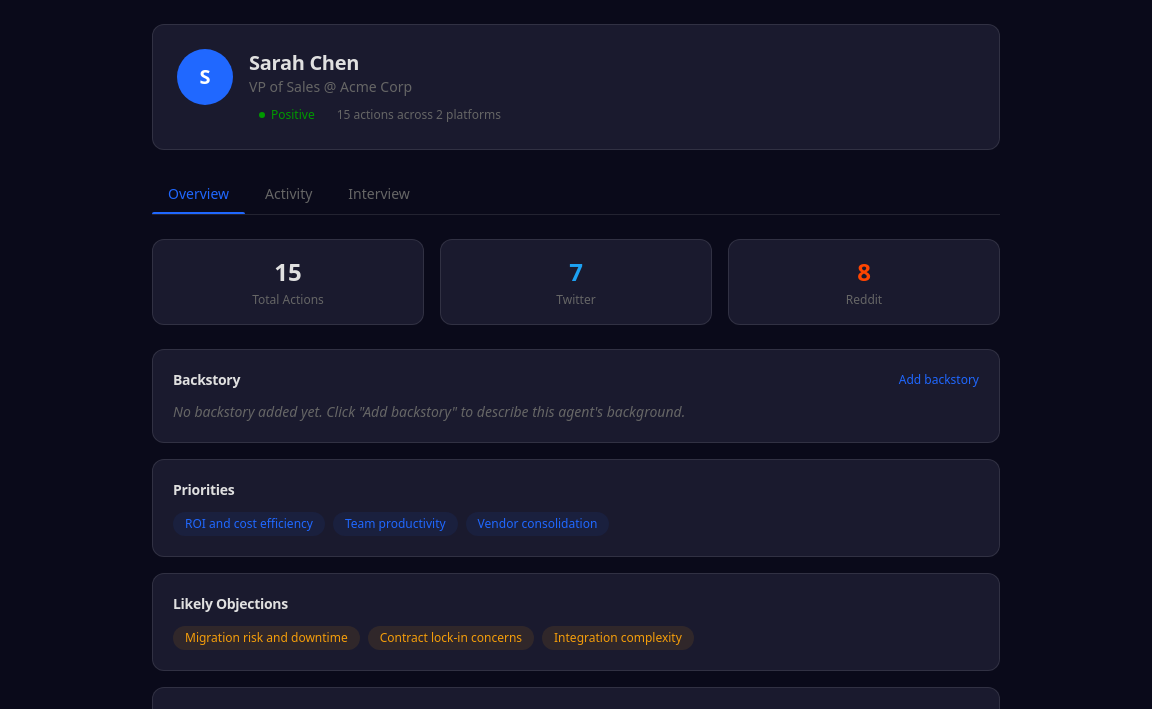
Test: AgentProfileView — E2E agent management › tab navigation › switches to Activity tab on click
Click the button "Activity": (289, 194) x1=249 y1=174 x2=328 y2=214
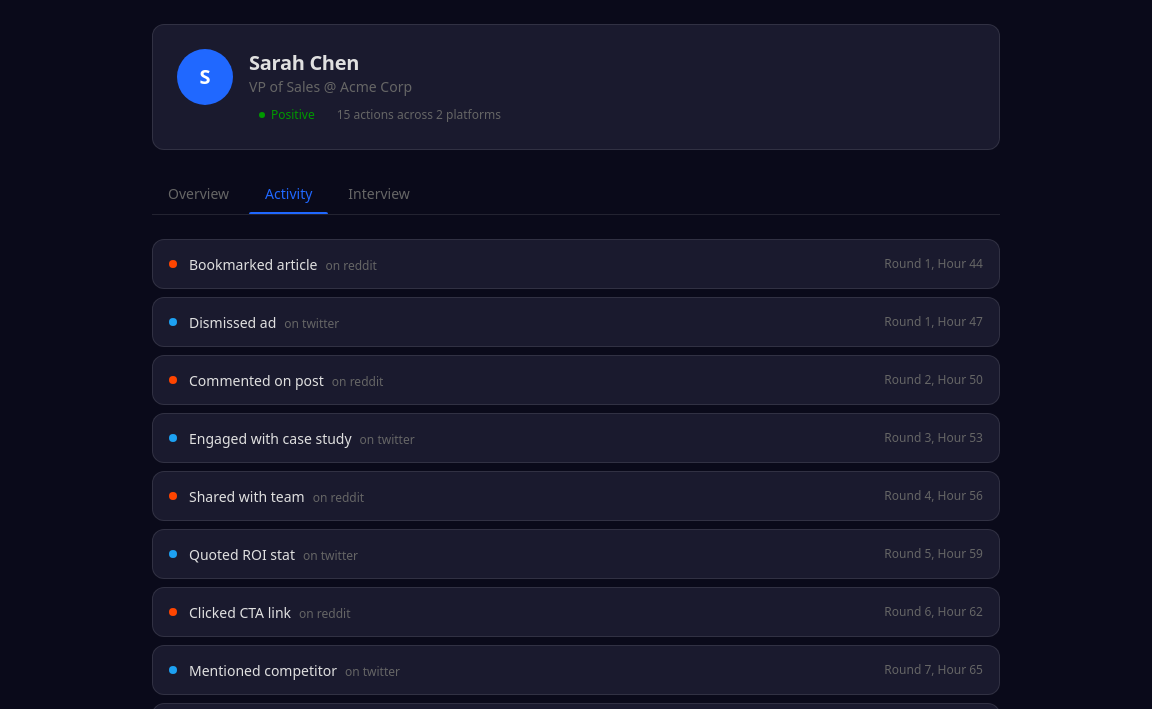
Now the text "Priorities" is gone
Now the text "on twitter" is shown, box x1=284 y1=315 x2=339 y2=332
